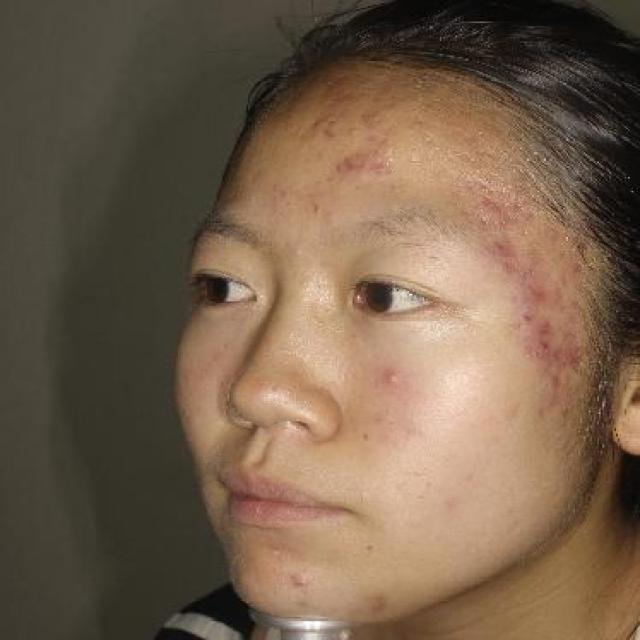Acne: (370, 364, 410, 394), (282, 568, 318, 590)
Blackheads: (515, 308, 537, 328), (534, 338, 554, 358)
